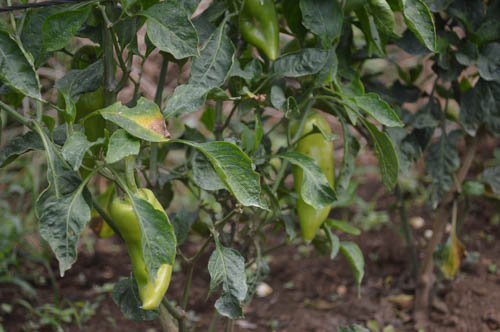ChiliPepper: (119, 194, 175, 307), (288, 116, 335, 247), (241, 5, 279, 61)
